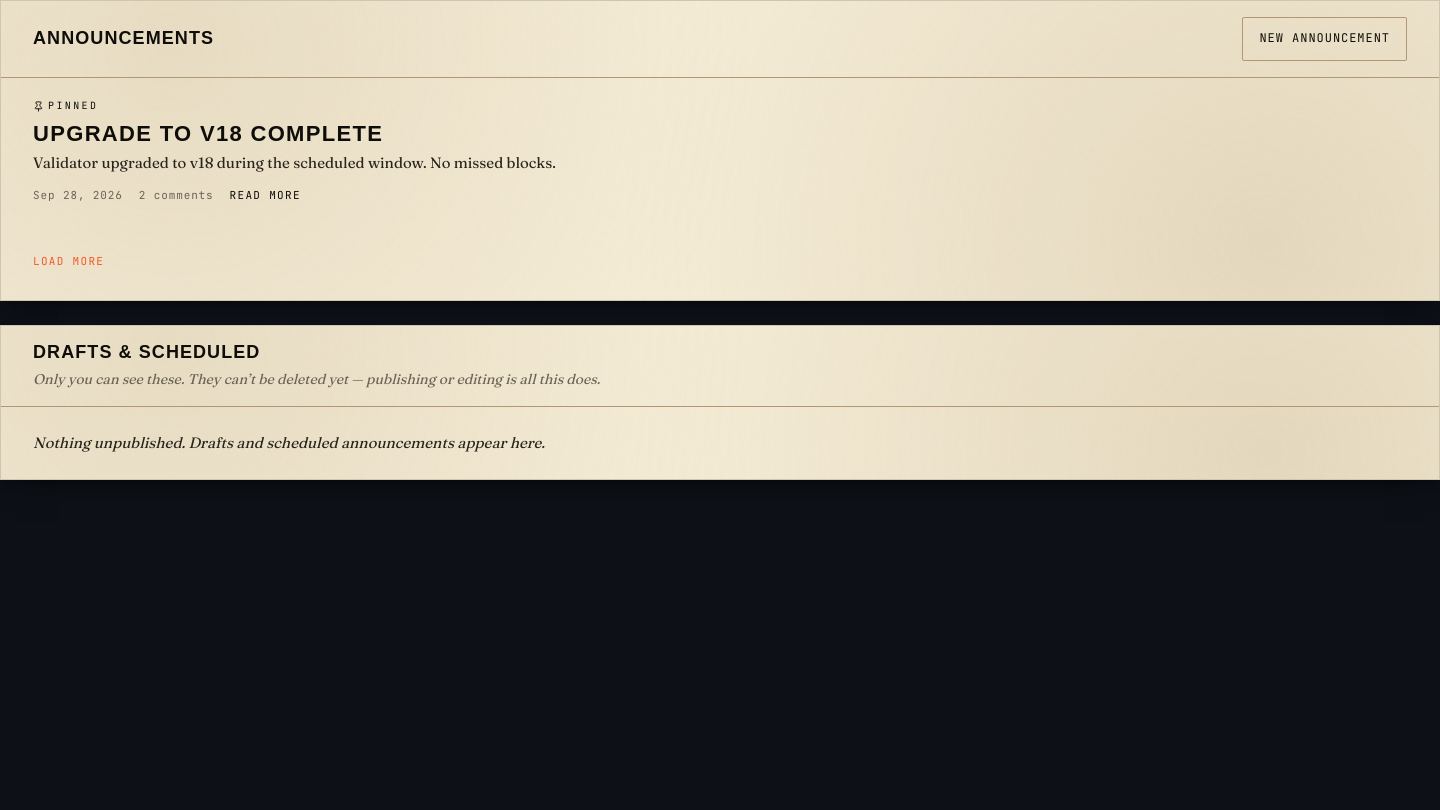
a failed LOAD MORE never discards the loaded list › keeps page one, withdraws LOAD MORE, and offers a retry
Expected: the link "Upgrade to v18 complete" is shown, [33,121,383,146]
Click the button "LOAD MORE" at x=69, y=262, box [33,240,104,284]
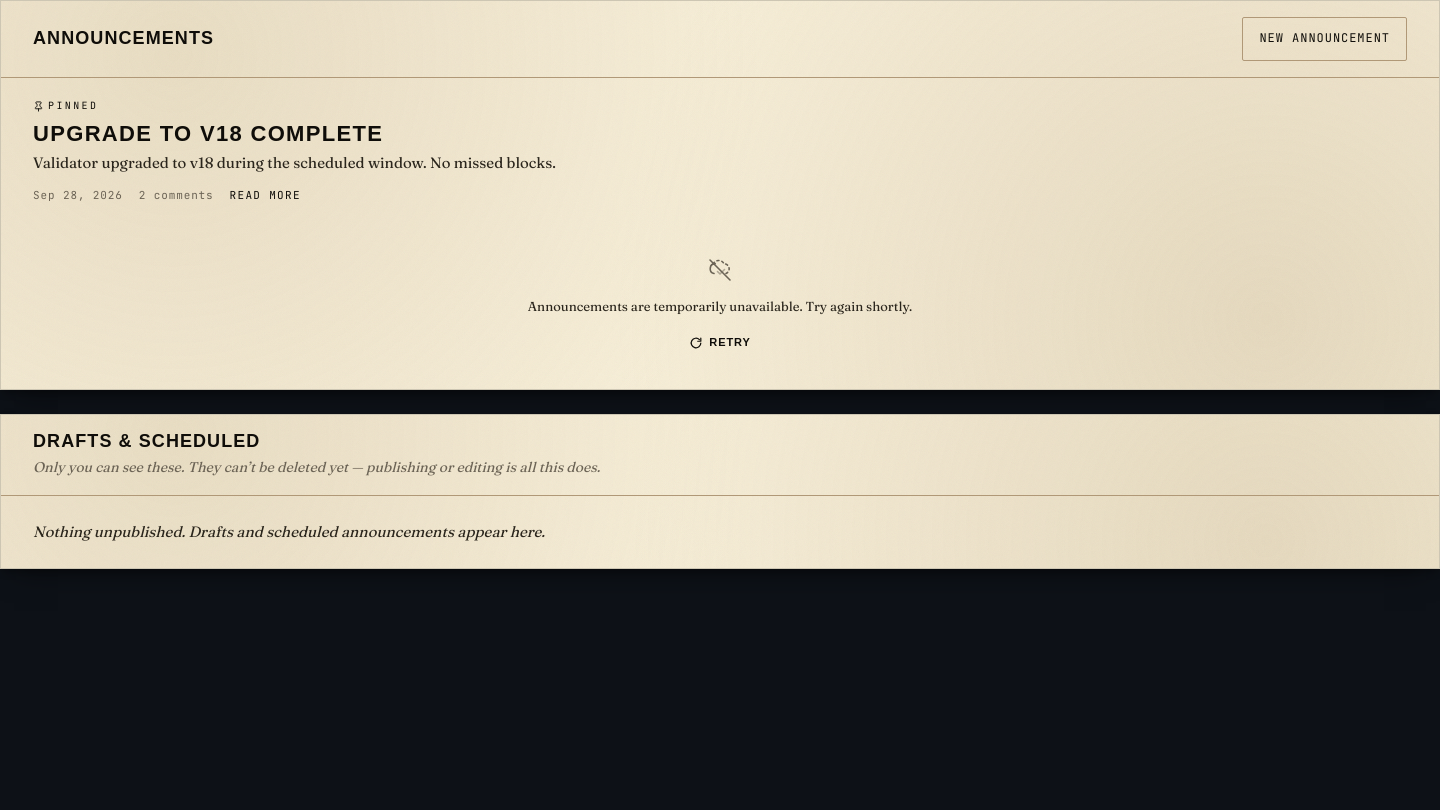
Expected: the link "Upgrade to v18 complete" is shown, [33,121,383,146]
Expected: the button "Retry" is shown, [677,329,763,357]
Expected: the button "LOAD MORE" is gone
